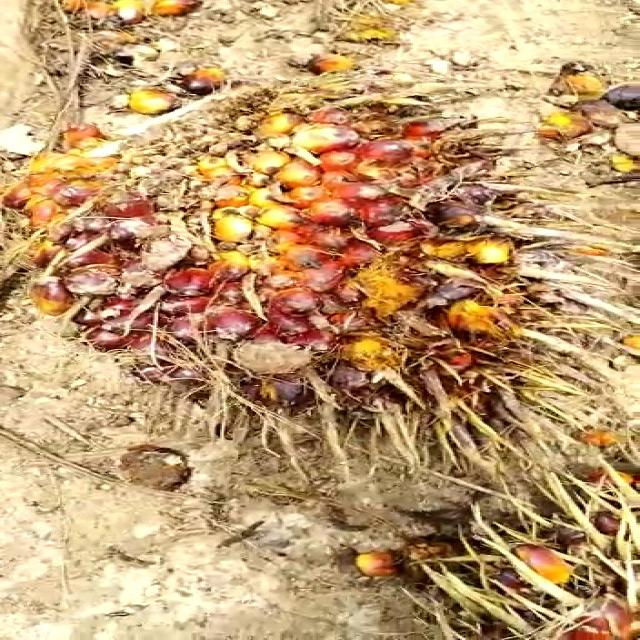palm oil: (12, 102, 602, 476)
